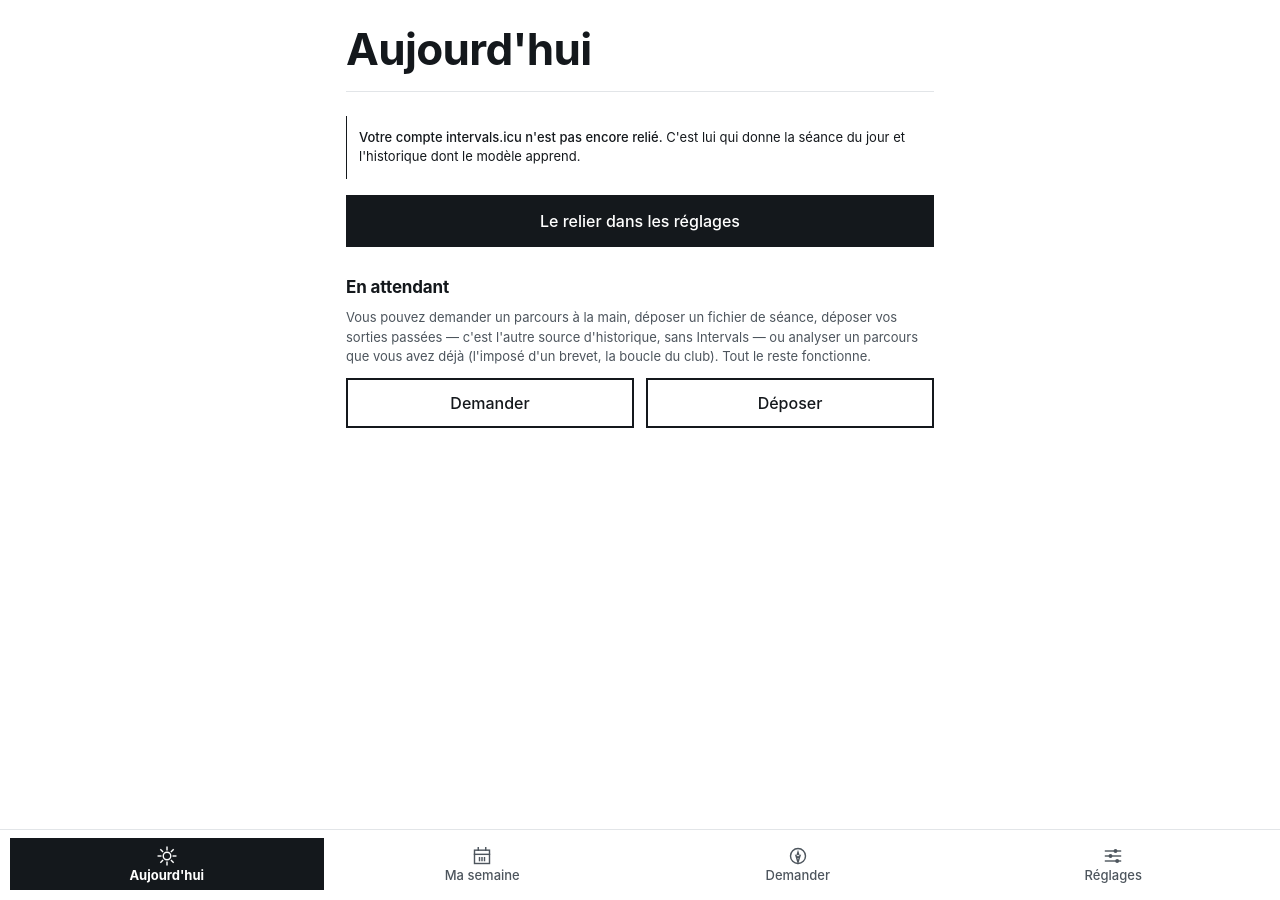
it: « Aujourd'hui » une fois Intervals branché › redemande la séance du jour et n'affiche plus le message « non relié »
This screenshot has width=1280, height=900.
Expected: the text "Votre compte intervals.icu n'est pas encore relié." is shown, [359,129,663,145]
Click the button "Réglages": x=1113, y=864 [956,838,1270,890]
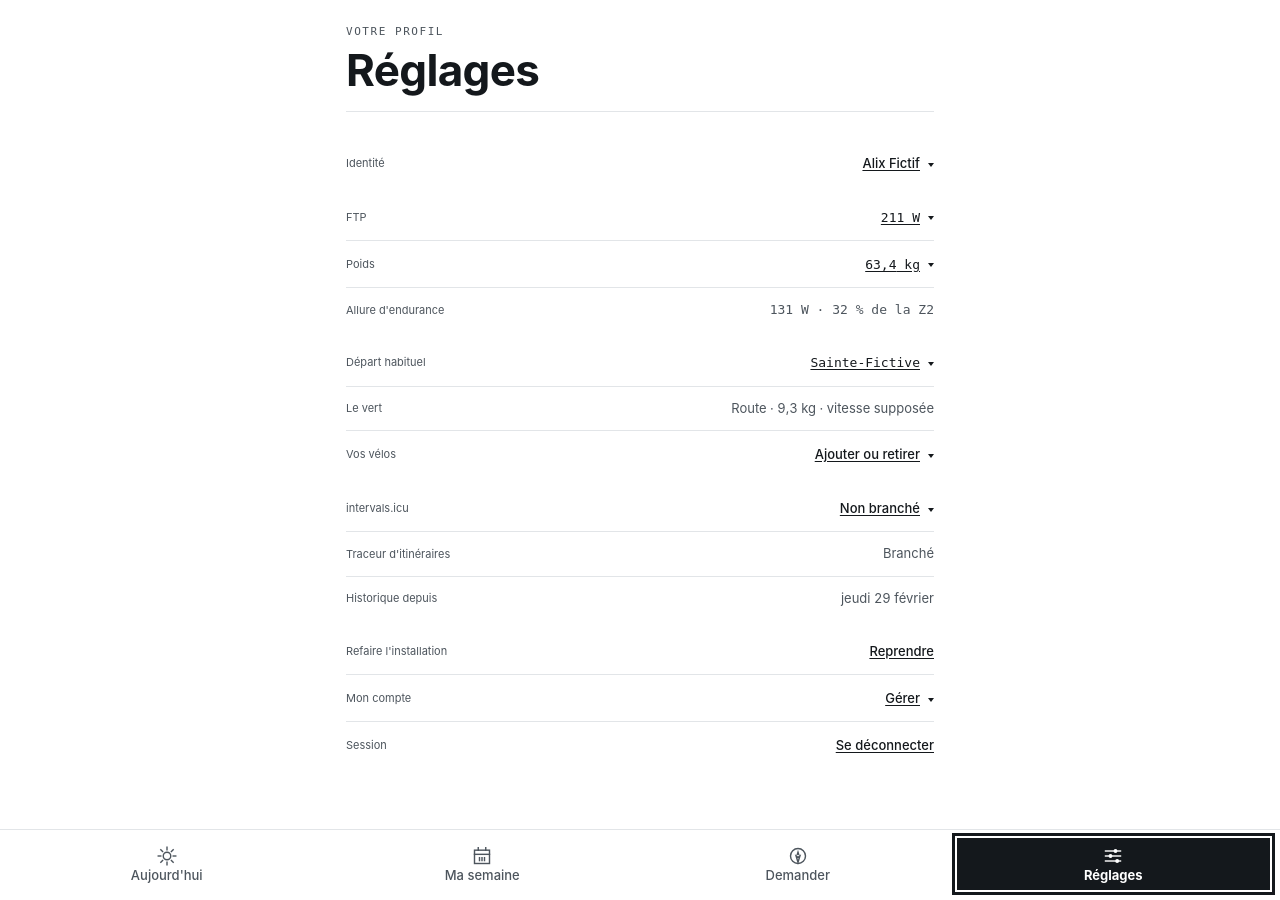
Click the button "Non branché": x=887, y=508 [832,486,942,530]
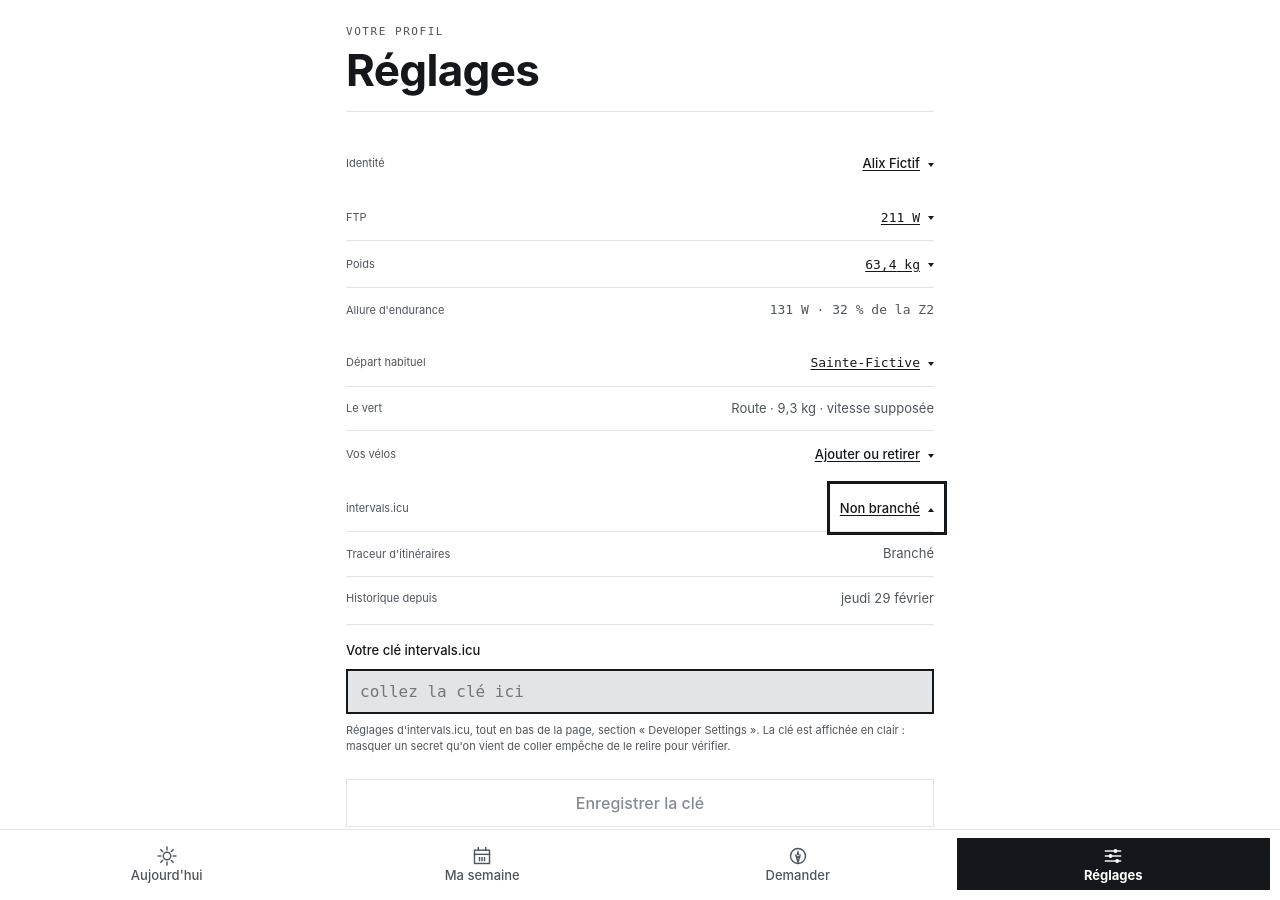
In the field labelled "Votre clé intervals.icu": x=640, y=691 [346,669,934,714], type "cle-inventee-de-test"
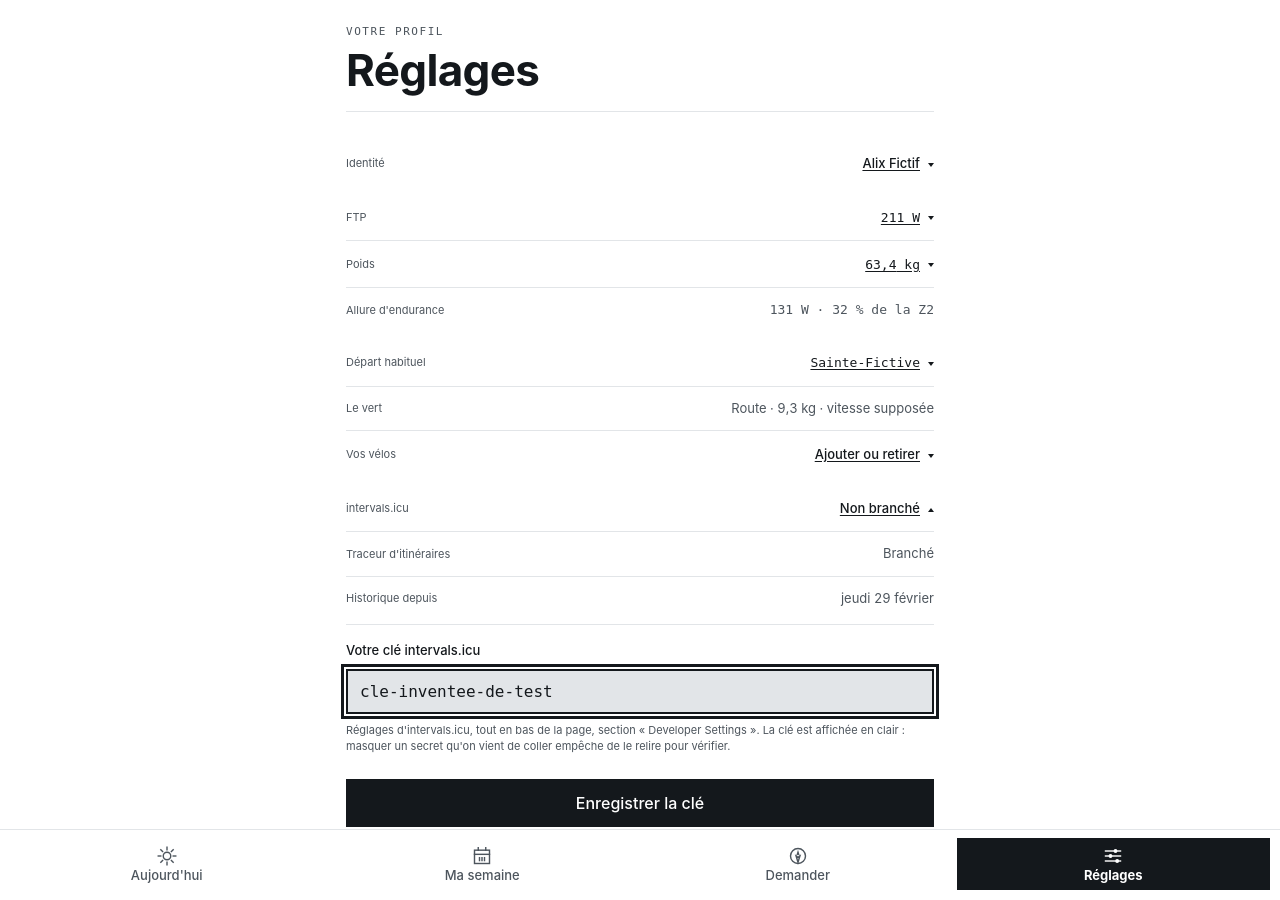
Click the button "Enregistrer la clé": x=640, y=803 [346,779,934,827]
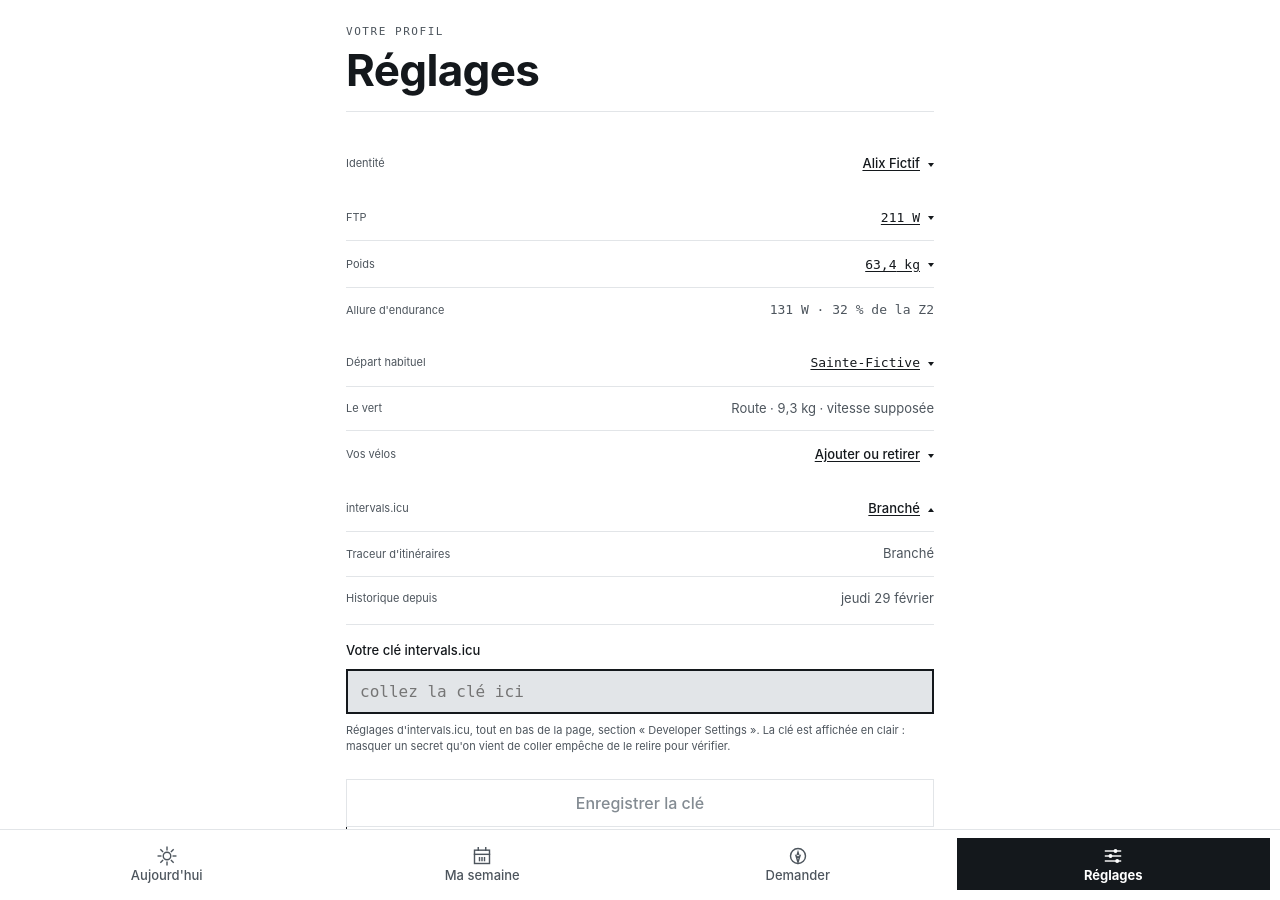
Expected: the text "Clé vérifiée auprès d'intervals.icu : c'est branché." is shown, [346,827,934,891]
Click the button "Aujourd'hui": x=167, y=864 [10,838,324,890]
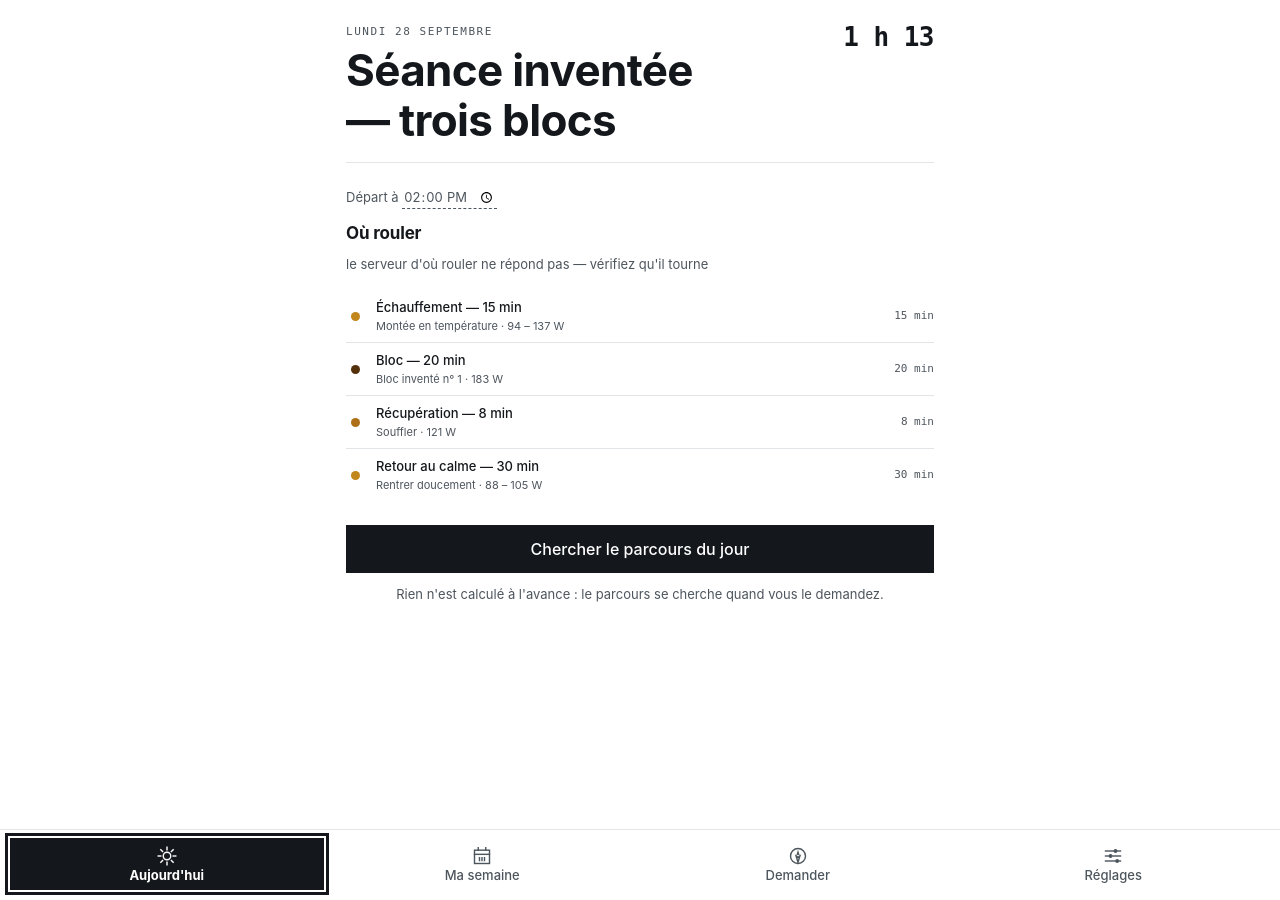
Expected: the text "Votre compte intervals.icu n'est pas encore relié." is not shown
Expected: the heading "Séance inventée — trois blocs" is shown, [346,42,693,147]
